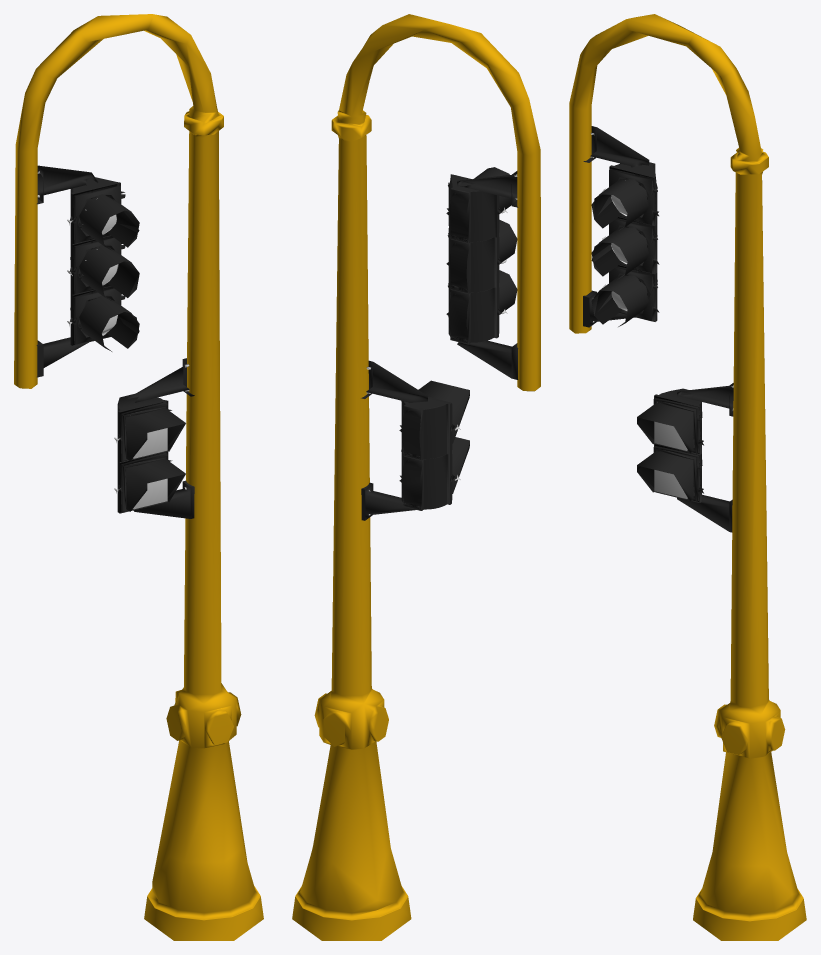
File: ledone.glb
3 views of the same model, side by side, from view 1: azimuth 30°, elevation 25°; view 2: azimuth 150°, elevation 25°; view 3: azimuth 330°, elevation 25° (orthographic). The views are drawn at different scales.
Size of the model in its own units: 1.29 by 4.83 by 0.5864.
